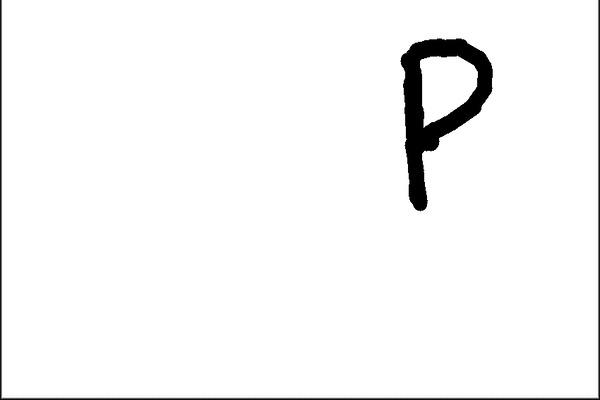P: (381, 36, 506, 214)
